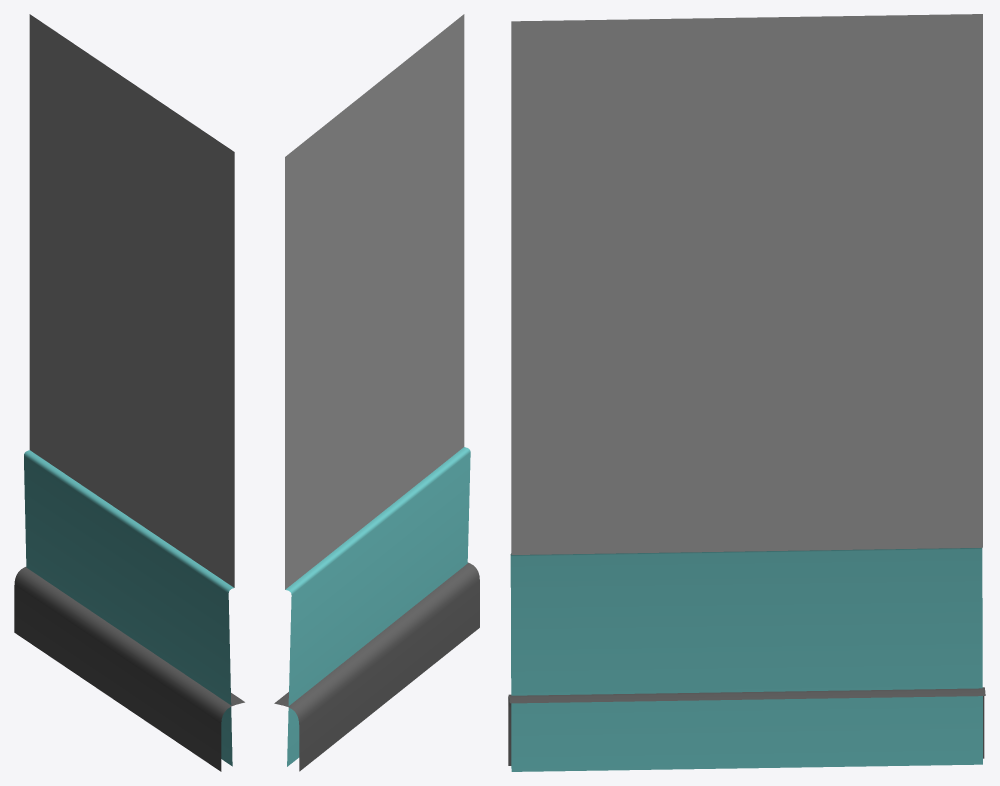
File: petit_mur_pattern (1).fbx
The picture shows the model from 3 angles, left to right: view 1: azimuth 30°, elevation 25°; view 2: azimuth 150°, elevation 25°; view 3: azimuth 270°, elevation 25°; orthographic projection. The views are drawn at different scales.
Parts seen in each view (by area): view 1: Object024; view 2: Object024; view 3: Object024.
Boxes of the visible parts, left/top/right/bottom form: Object024: left=14, top=14, right=244, bottom=771; Object024: left=274, top=14, right=479, bottom=771; Object024: left=508, top=14, right=985, bottom=771.
Size of the model in its own units: 2.3 by 36.41 by 20.91.
